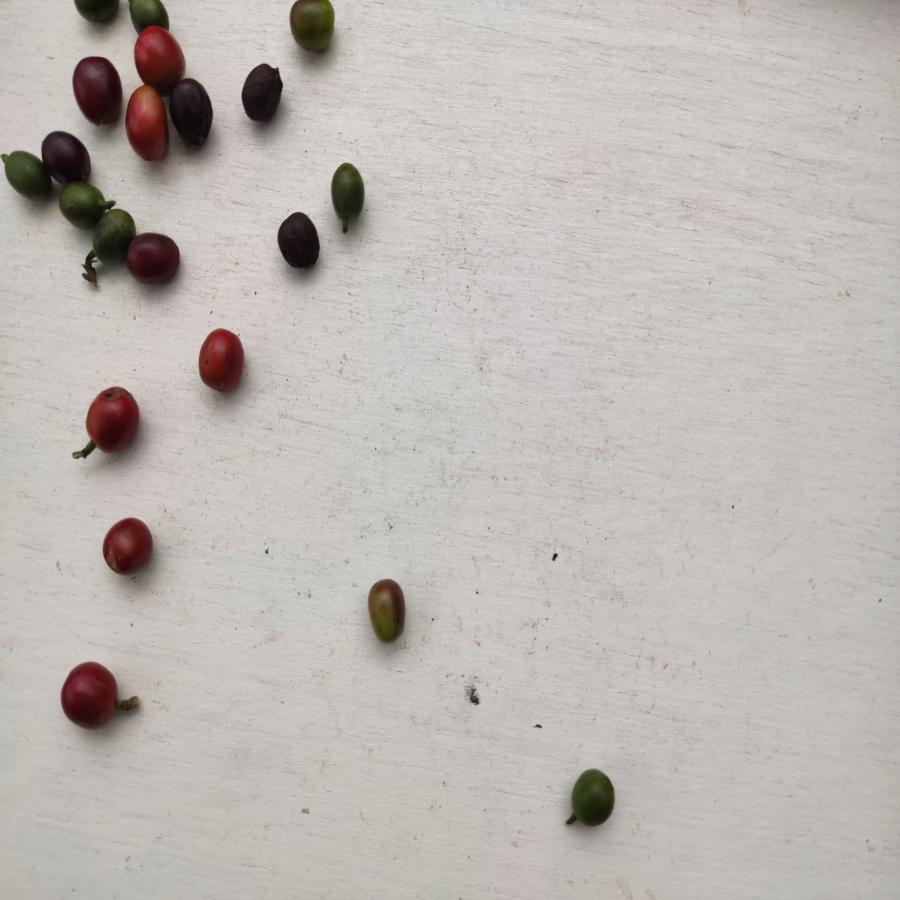Inmaduro: (571, 767, 616, 833), (329, 162, 368, 224), (59, 183, 108, 229), (92, 206, 129, 265), (5, 150, 41, 204), (124, 1, 174, 26)
Maduro: (59, 658, 118, 730), (85, 385, 139, 455), (197, 328, 247, 397), (126, 86, 168, 164), (102, 516, 153, 577), (134, 28, 189, 78)
Pinton: (363, 575, 412, 646)
Sobremaduro: (170, 78, 219, 152), (71, 56, 122, 127), (126, 232, 183, 287), (238, 63, 286, 128), (274, 211, 320, 275), (41, 129, 93, 179)
